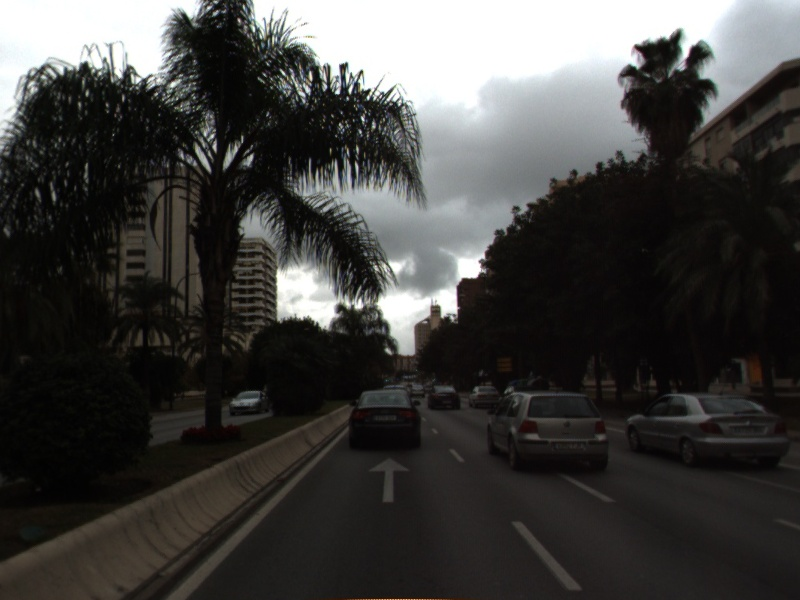STRAIGHT: (366, 455, 414, 504)
